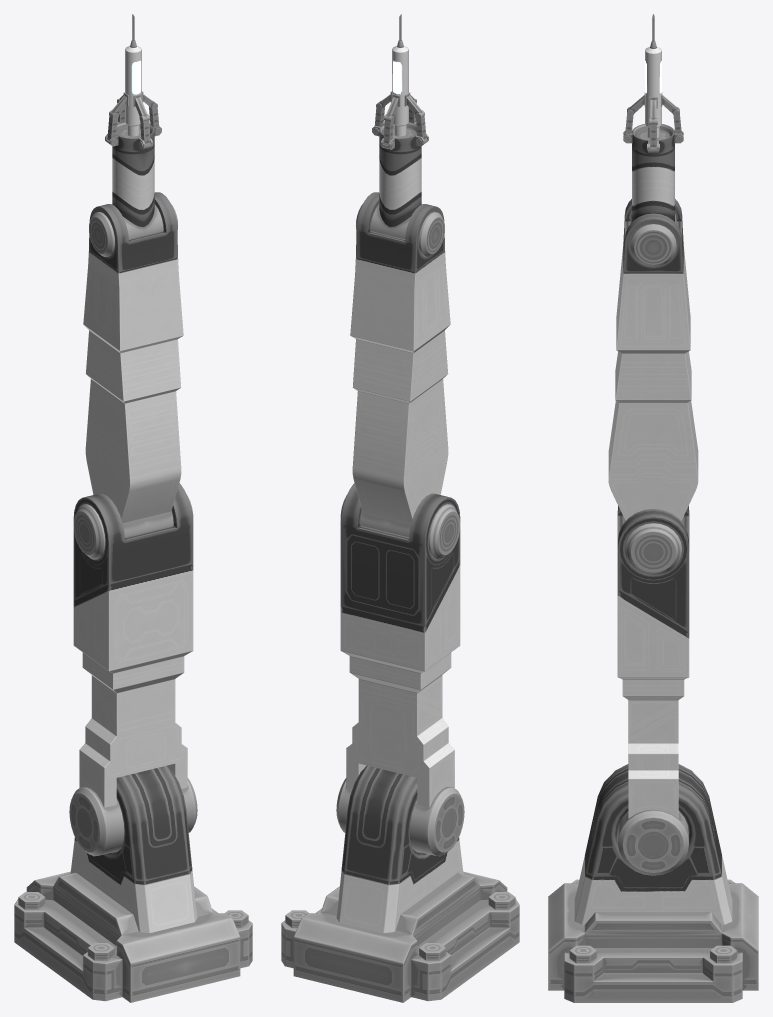
The model's file is MedRoboticArm01.FBX.
3 renders of one model, left to right at view 1: azimuth 30°, elevation 25°; view 2: azimuth 150°, elevation 25°; view 3: azimuth 270°, elevation 25°, orthographic.
Visible parts, largest first — view 1: Base, Joint1, Joint2, Joint3; view 2: Base, Joint1, Joint2, Joint3; view 3: Base, Joint2, Joint1, Joint3.
Part boxes in pixels (box(x1,y1,x2,y2)): Base: box(14, 765, 252, 1002); Joint1: box(69, 483, 197, 856); Joint2: box(73, 192, 193, 559); Joint3: box(89, 14, 177, 256); Base: box(281, 765, 519, 1002); Joint1: box(336, 483, 464, 856); Joint2: box(340, 192, 460, 559); Joint3: box(356, 14, 444, 256); Base: box(548, 764, 758, 1002); Joint2: box(608, 199, 698, 575); Joint1: box(617, 505, 689, 875); Joint3: box(623, 14, 683, 266).
Size of what is drawn, in the model's own units: 0.5352 by 3 by 0.6026.
